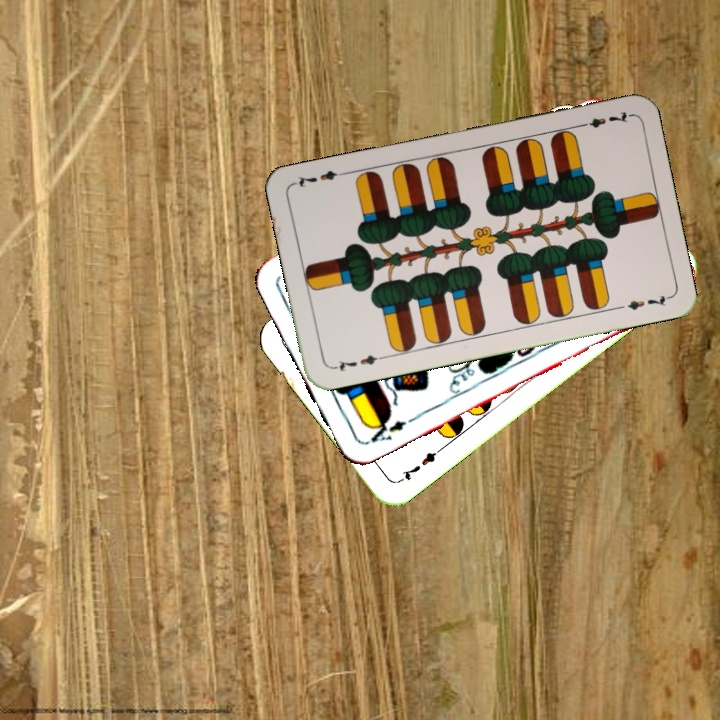E7: (394, 444, 444, 485), (328, 350, 387, 374), (574, 107, 633, 131)
EA: (362, 413, 417, 447)
